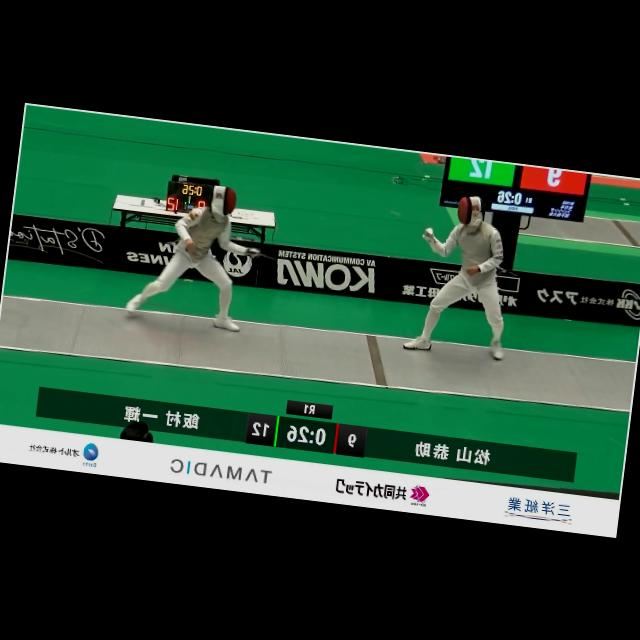blade: (378, 204, 439, 238), (246, 244, 286, 266)
